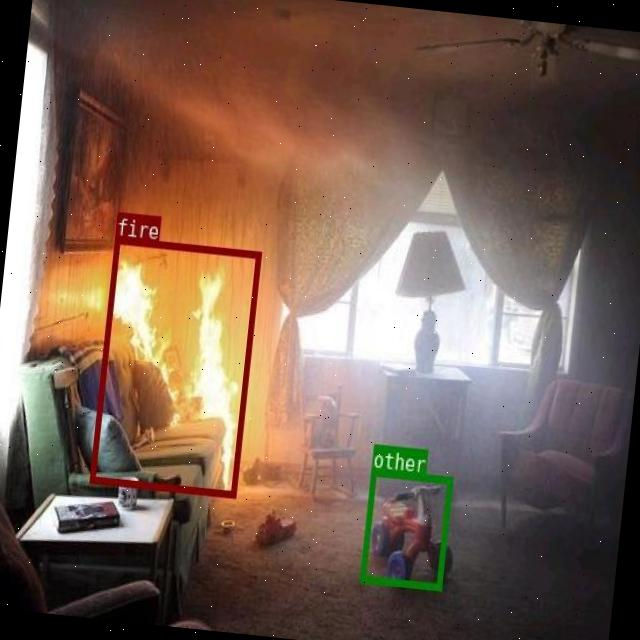fire: (88, 235, 260, 496)
